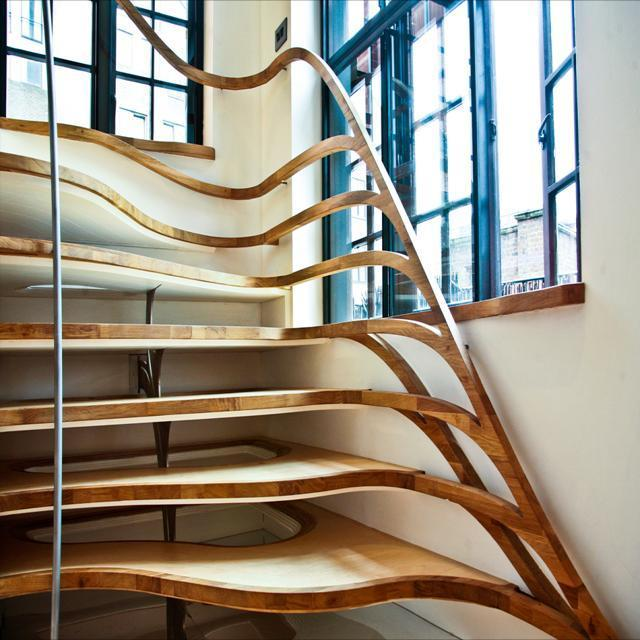stairs: (0, 27, 598, 638)
